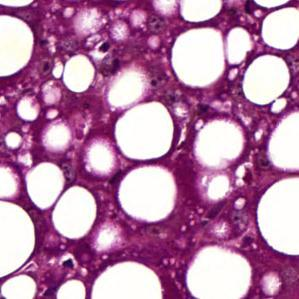steatosis: (120, 165, 182, 224), (170, 28, 233, 86), (113, 105, 177, 156), (246, 54, 289, 106)
